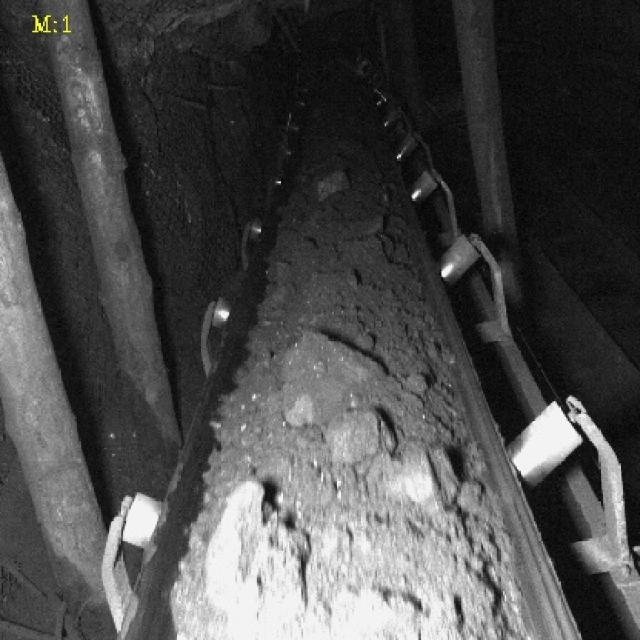large_sized_coal: (205, 484, 308, 614), (280, 331, 380, 420), (378, 449, 462, 508), (326, 411, 396, 457), (311, 168, 351, 205)
